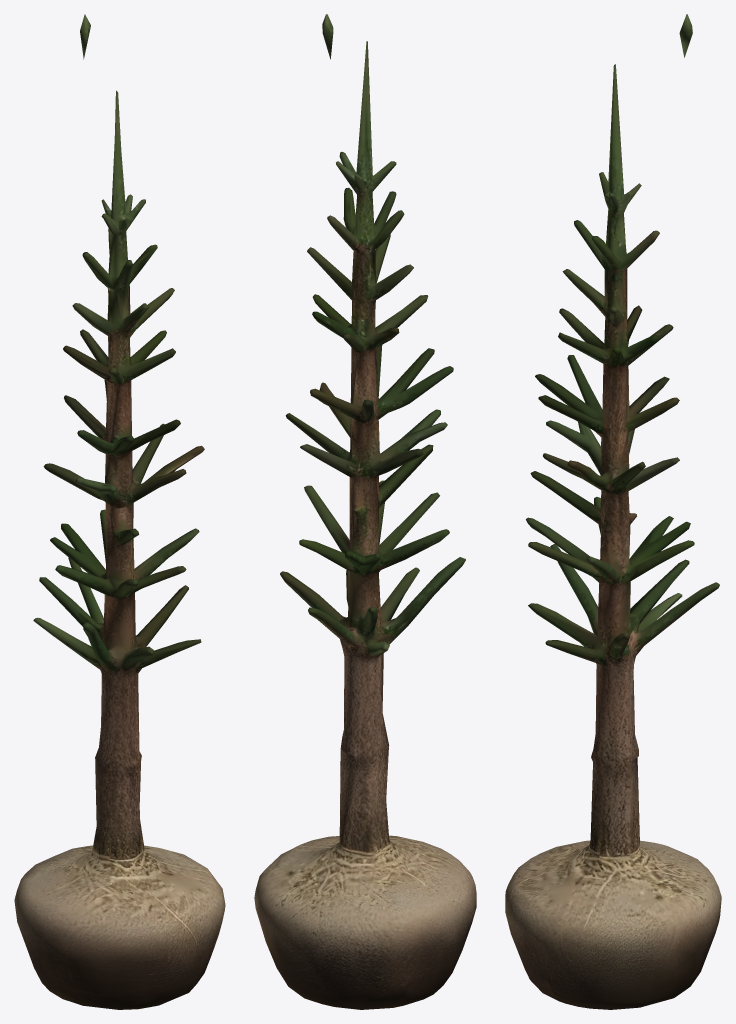
The model's file is pine_tree.glb.
The picture shows the model from 3 angles, left to right: view 1: azimuth 30°, elevation 25°; view 2: azimuth 150°, elevation 25°; view 3: azimuth 270°, elevation 25°; orthographic projection. The views are drawn at different scales.
Visible parts, largest first — view 1: node_0; view 2: node_0; view 3: node_0.
Part boxes in pixels (x1,y1,x2,y2): node_0: [14, 14, 225, 1009]; node_0: [254, 14, 476, 1009]; node_0: [505, 14, 721, 1009].
Size of the model in its own units: 0.2384 by 1.19 by 0.2417.
1 material, 1 textured.
